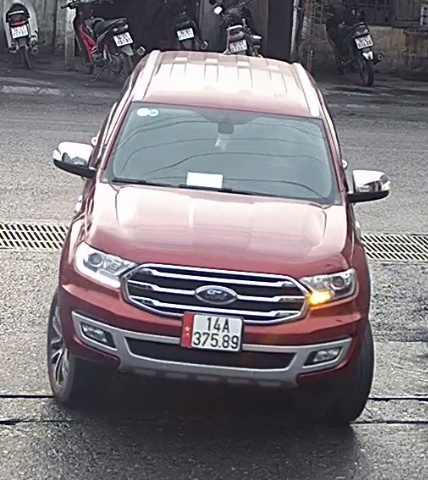vehicle plate: (180, 307, 242, 350)
